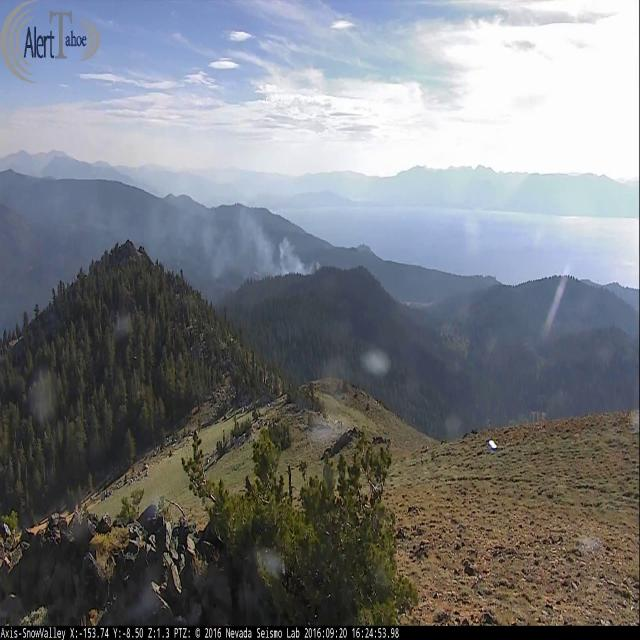smoke: (4, 170, 138, 323), (146, 188, 321, 286)
